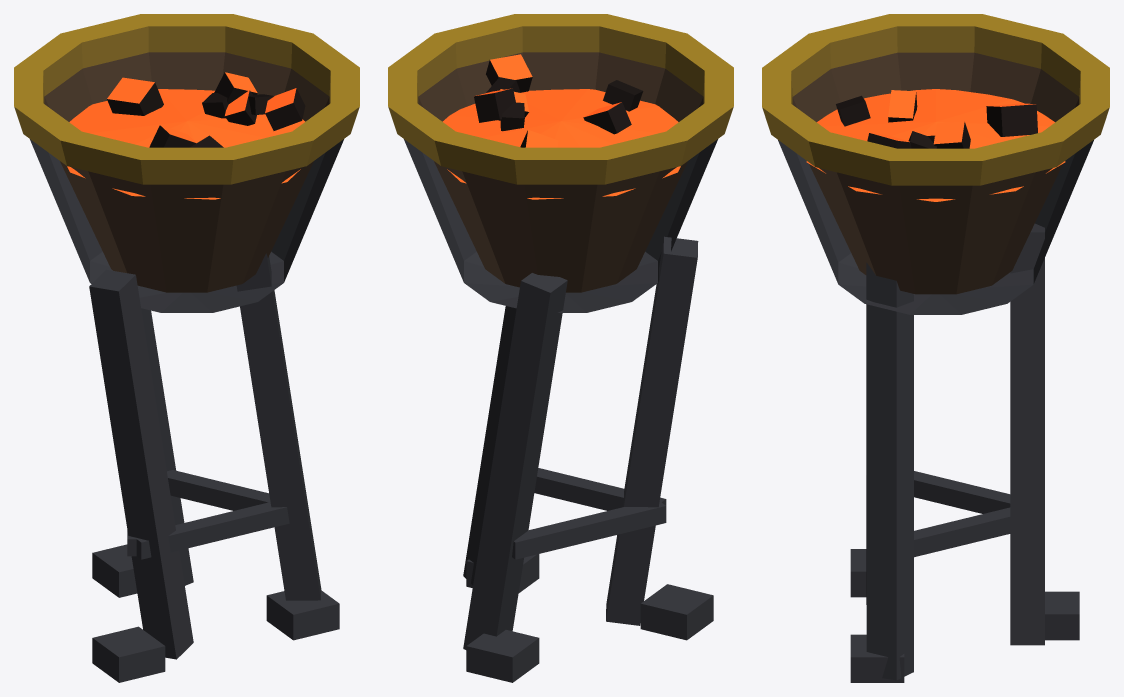
The model's file is brazier.glb.
The picture shows the model from 3 angles, left to right: view 1: azimuth 30°, elevation 25°; view 2: azimuth 150°, elevation 25°; view 3: azimuth 270°, elevation 25°; orthographic projection.
Parts seen in each view (by area): view 1: Brazier; view 2: Brazier; view 3: Brazier.
Boxes of the visible parts, bbox=[...] form: Brazier: bbox=[14, 14, 359, 682]; Brazier: bbox=[388, 14, 733, 682]; Brazier: bbox=[762, 14, 1109, 682].
Bounding box in the file's own units: 0.5506 × 0.9467 × 0.5506.
1 material, 1 textured.
